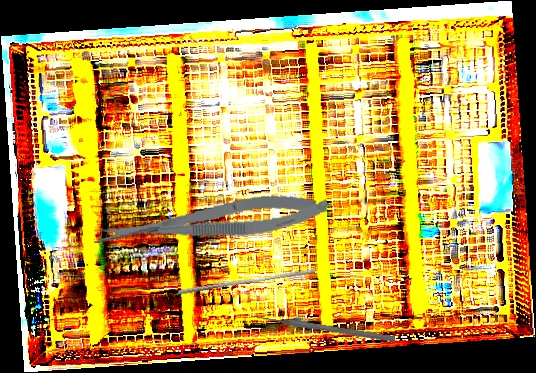Micro Scissor: (90, 187, 330, 253)
Pusher: (177, 263, 316, 301), (250, 311, 396, 344)
